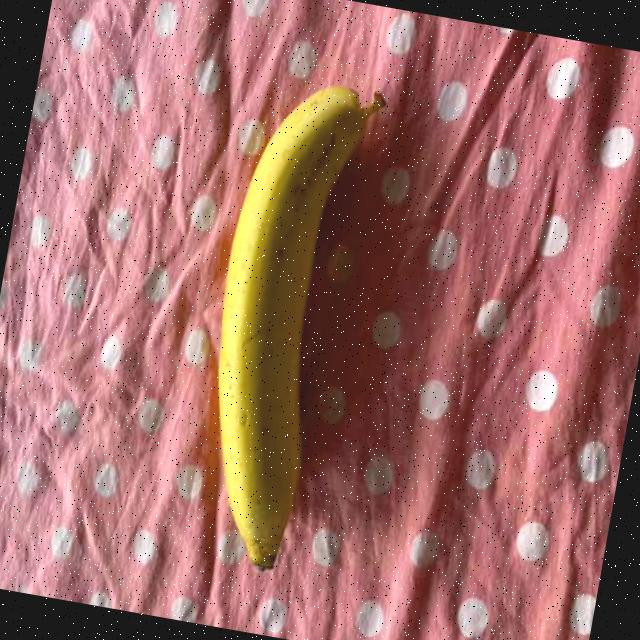Ripe: (147, 35, 418, 595)
